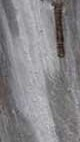Exposed reinforcement: (51, 1, 66, 59)
